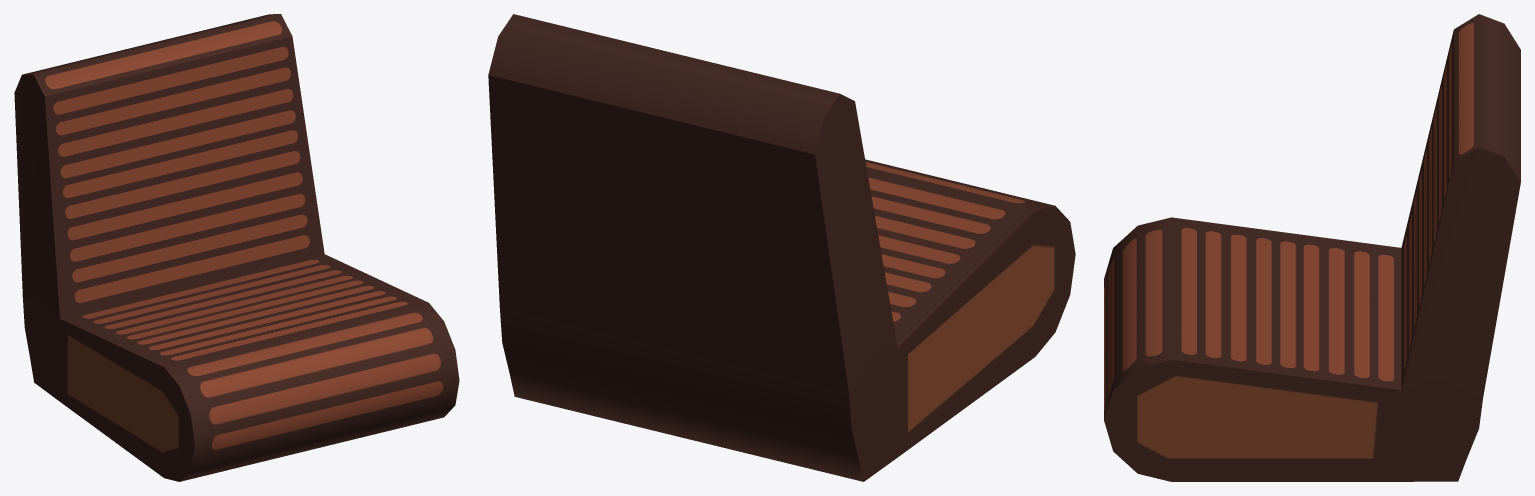
Rendered from PRSW_Sofa.FBX.
3 views of the same model, side by side, from view 1: azimuth 30°, elevation 25°; view 2: azimuth 150°, elevation 25°; view 3: azimuth 270°, elevation 25° (orthographic). The views are drawn at different scales.
Parts seen in each view (by area): view 1: PRSW_Sofa; view 2: PRSW_Sofa; view 3: PRSW_Sofa.
Boxes of the visible parts, <box> form: PRSW_Sofa: <box>14,14,459,481</box>; PRSW_Sofa: <box>488,14,1075,481</box>; PRSW_Sofa: <box>1104,14,1520,481</box>.
Bounding box in the file's own units: 1 × 1.08 × 1.24.
